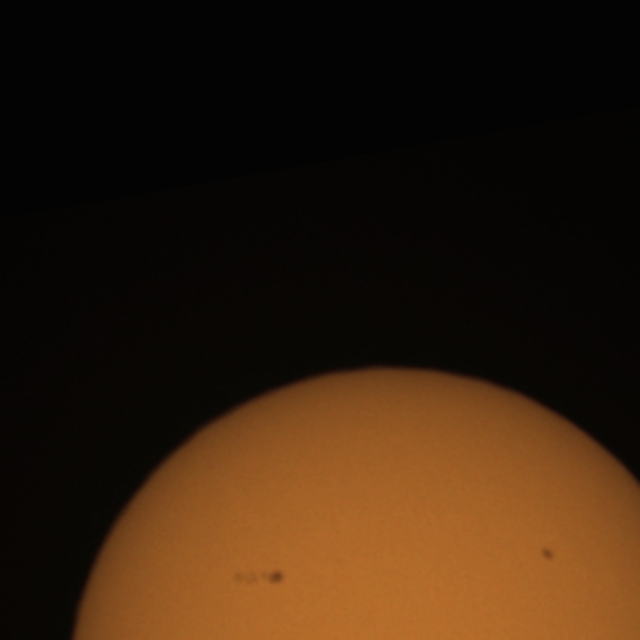sunspot: (228, 568, 287, 590), (538, 546, 556, 564)
